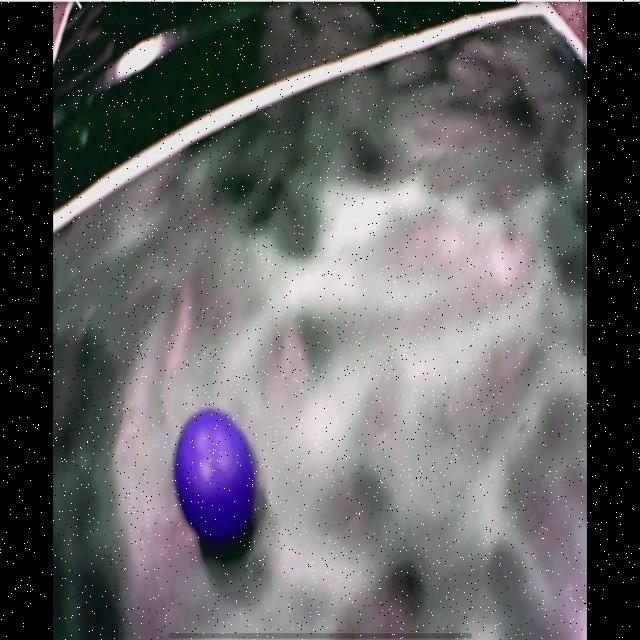ball: (174, 408, 259, 545)
